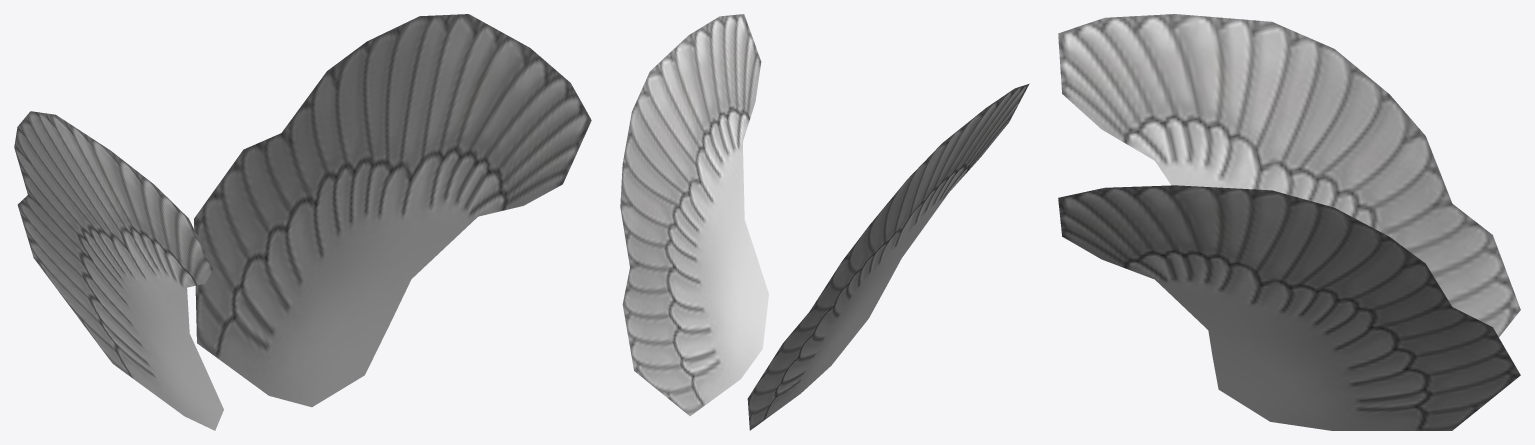
The model's file is tt_m_chr_avt_acc_pac_angelWings.glb.
3 renders of one model, left to right at view 1: azimuth 30°, elevation 25°; view 2: azimuth 150°, elevation 25°; view 3: azimuth 270°, elevation 25°, orthographic. The views are drawn at different scales.
Visible parts, largest first — view 1: tt_m_chr_avt_acc_pac_angelWingswithWhiteFeathers; view 2: tt_m_chr_avt_acc_pac_angelWingswithWhiteFeathers; view 3: tt_m_chr_avt_acc_pac_angelWingswithWhiteFeathers.
Part boxes in pixels (x1,y1,x2,y2): tt_m_chr_avt_acc_pac_angelWingswithWhiteFeathers: (14,14,591,430); tt_m_chr_avt_acc_pac_angelWingswithWhiteFeathers: (620,14,1029,430); tt_m_chr_avt_acc_pac_angelWingswithWhiteFeathers: (1058,14,1520,430).
Bounding box in the file's own units: 4.72 × 4.04 × 5.39.
1 material, 1 textured.
